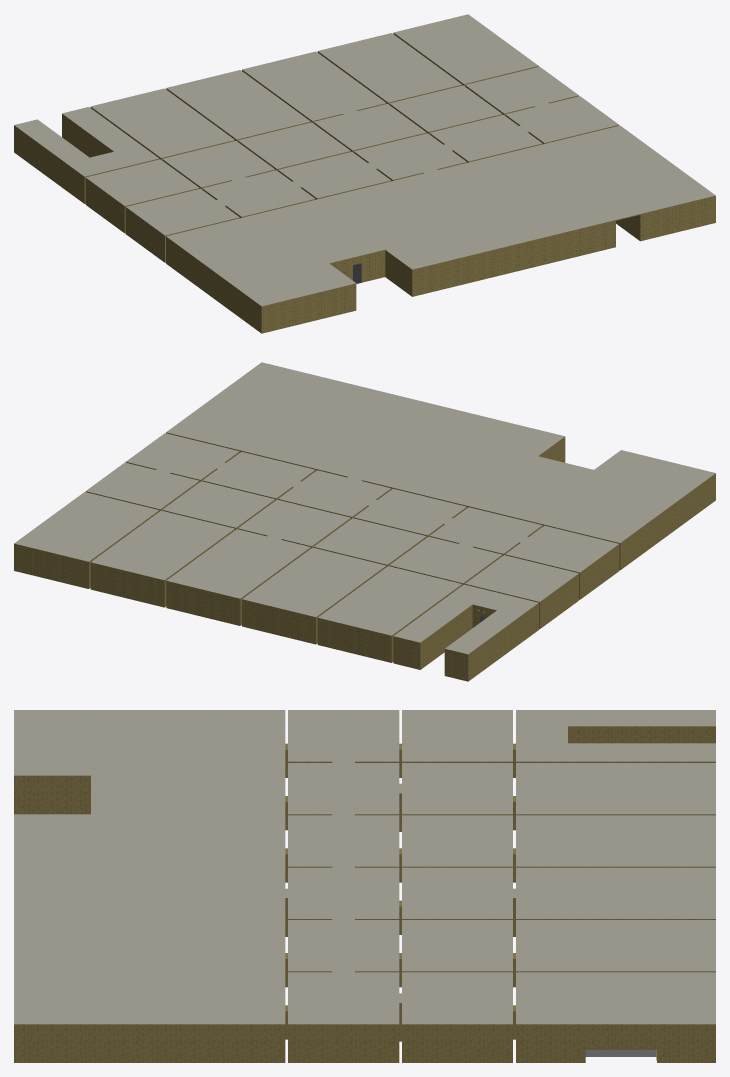
The model's file is gbi_L2_2.glb.
3 views of the same model, one above another, from view 1: azimuth 30°, elevation 25°; view 2: azimuth 150°, elevation 25°; view 3: azimuth 270°, elevation 25° (orthographic). The views are drawn at different scales.
Visible parts, largest first — view 1: M_D_ceil_L2, M_D_wall_L2, M_GBI_kit; view 2: M_D_ceil_L2, M_D_wall_L2, M_GBI_kit; view 3: M_D_ceil_L2, M_D_wall_L2, M_GBI_kit.
Boxes of the visible parts, x1,y1,x2,y2 form: M_D_ceil_L2: (14, 14, 715, 306); M_D_wall_L2: (14, 32, 715, 333); M_GBI_kit: (62, 114, 640, 296); M_D_ceil_L2: (14, 362, 715, 654); M_D_wall_L2: (14, 432, 715, 681); M_GBI_kit: (420, 436, 565, 669); M_D_ceil_L2: (14, 710, 715, 1024); M_D_wall_L2: (14, 743, 715, 1062); M_GBI_kit: (14, 726, 715, 814).
Bounding box in the file's own units: 52.2 × 3 × 49.3.
Materials: 15 (7 with a texture image).
